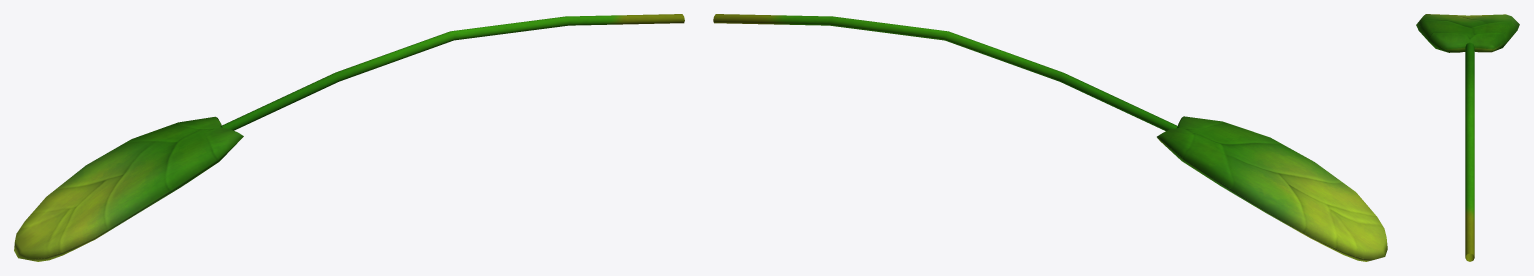
Rendered from H_Leaf.fbx.
3 renders of one model, left to right at view 1: azimuth 30°, elevation 25°; view 2: azimuth 150°, elevation 25°; view 3: azimuth 270°, elevation 25°, orthographic. The views are drawn at different scales.
Visible parts, largest first — view 1: Low, long; view 2: Low, long; view 3: Low, long.
Part boxes in pixels (<box>): Low: <box>14,116,243,261</box>; long: <box>220,14,684,130</box>; Low: <box>1157,116,1387,261</box>; long: <box>713,14,1178,130</box>; Low: <box>1416,14,1519,52</box>; long: <box>1465,42,1474,261</box>.
Size of the model in its own units: 473 by 83.73 by 68.11.
Materials: 1 (1 with a texture image).
